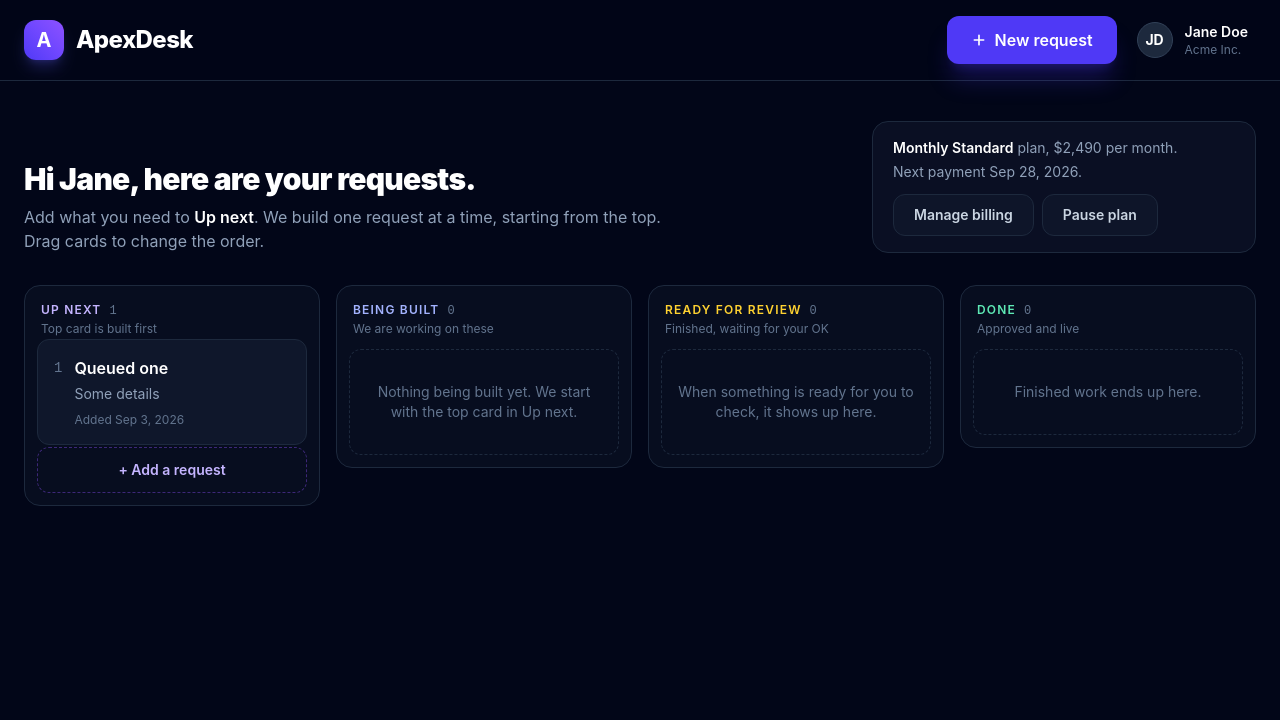
DashboardPage request modal › opens a card into a modal with details, facts and actions
Expected: the heading "Up next 1" is shown, [41,302,117,318]
Click the button "1 Queued one Some details Added Sep 3, 2026" at (121, 368), box [38,340,306,444]
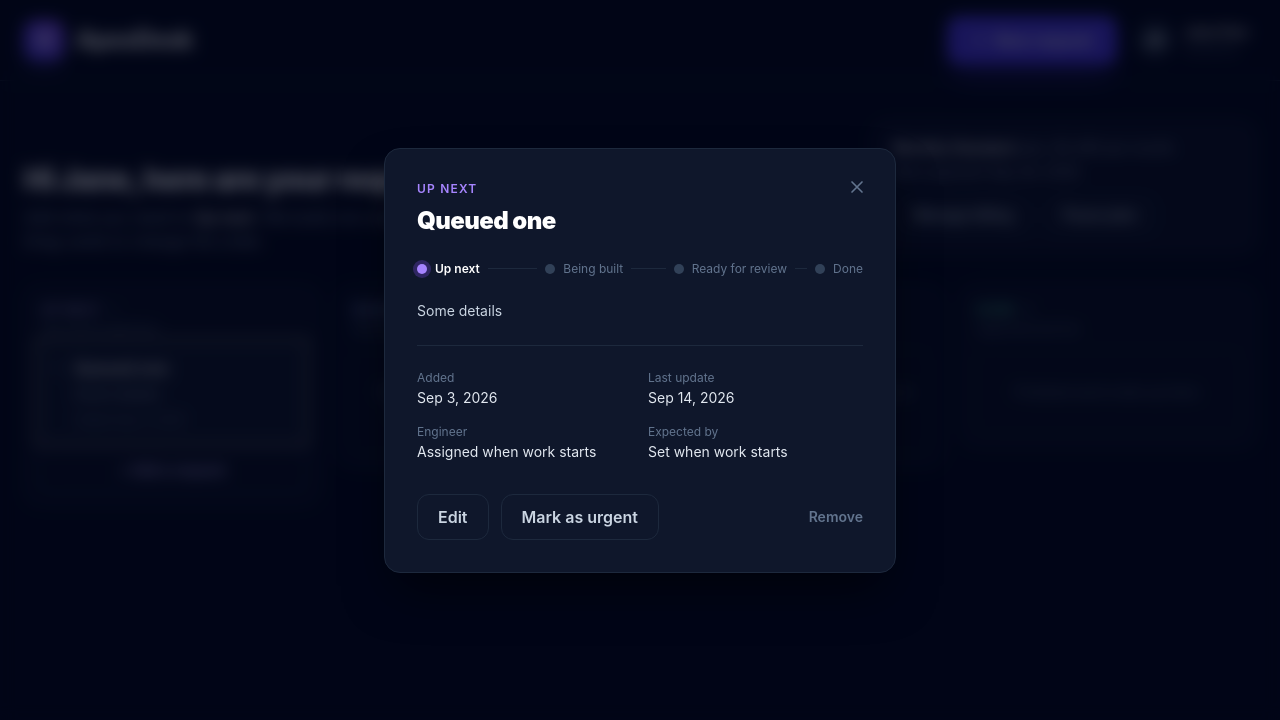
Result: the text "Some details" is shown at [417,302,502,318]
Result: the text "Sep 3, 2026" is shown at [417,388,498,406]
Result: the list named "Status: Up next" is shown at [417,260,863,276]
Press Escape
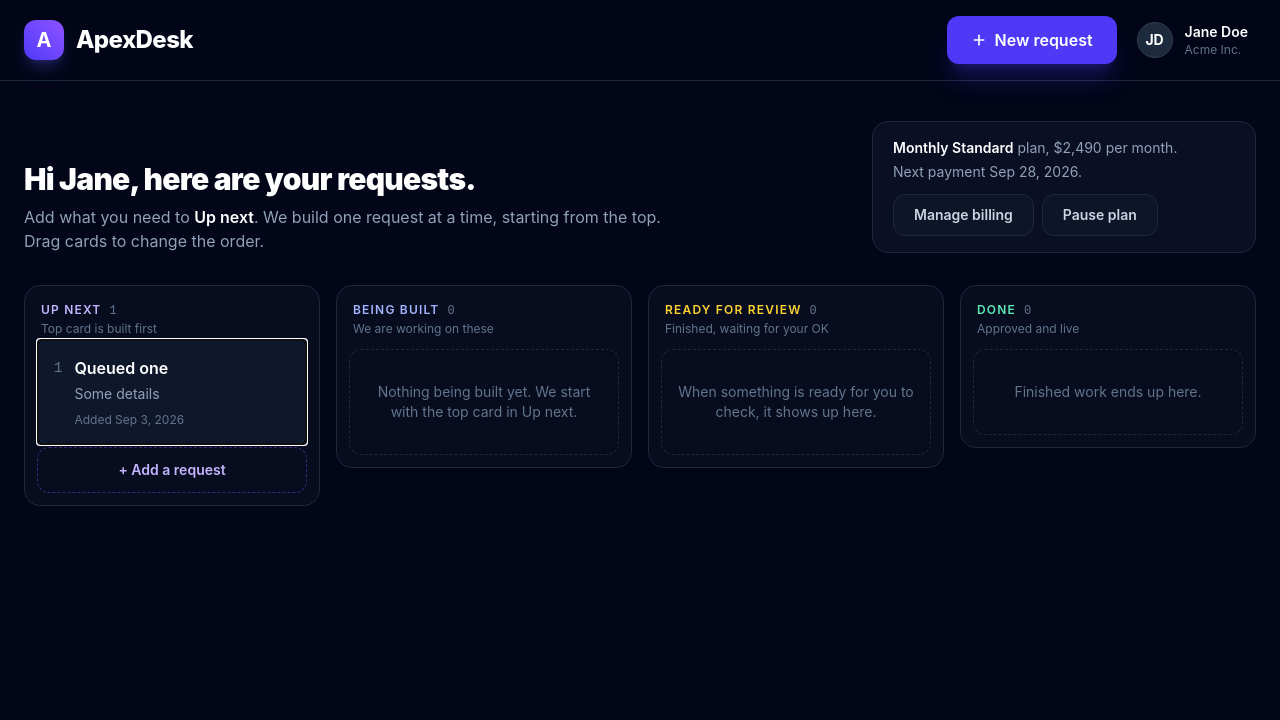
Result: the dialog is gone
